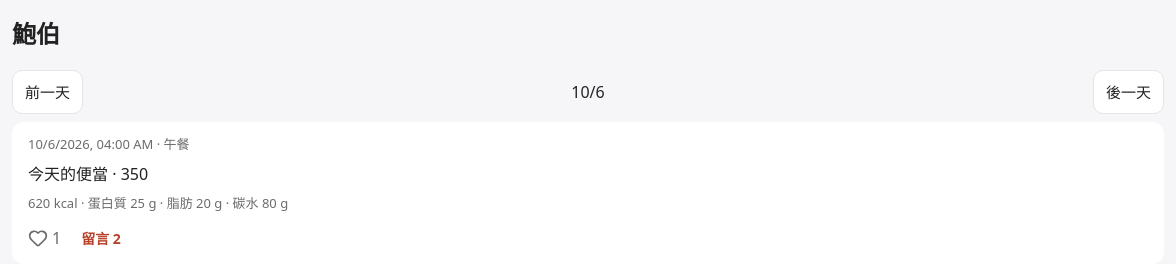
Test: 好友的某一天 › 預設讓後端決定他的今天；前一天、後一天帶 date
The width and height of the screenshot is (1176, 264).
Expected: the heading "鮑伯" is shown, [12,17,60,50]
Expected: the list item "今天的便當" is shown, [28,163,108,185]
Click the button "前一天". click: (48, 92)
box: [12,70,83,114]
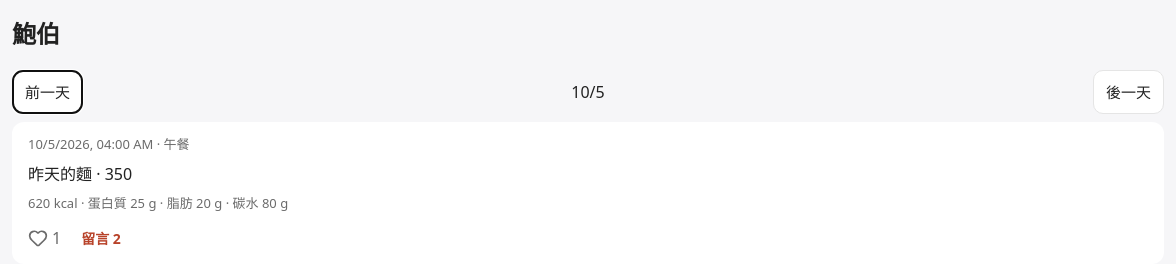
Now the list item "昨天的麵" is shown, box [28,163,92,185]
Click the button "後一天". click: (1128, 92)
box: [1093,70,1164,114]
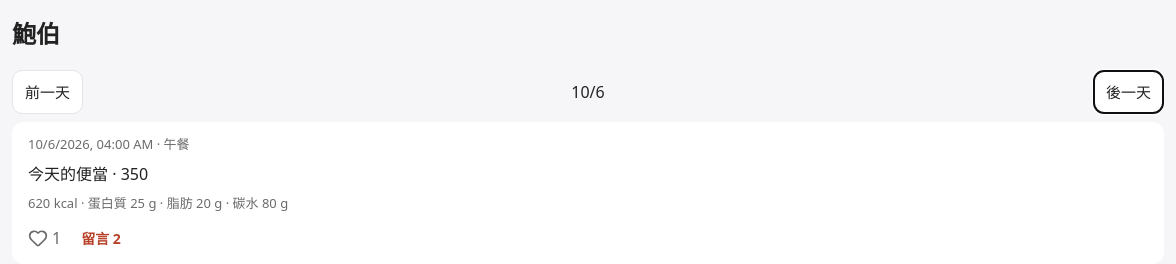
Now the list item "今天的便當" is shown, box [28,163,108,185]
